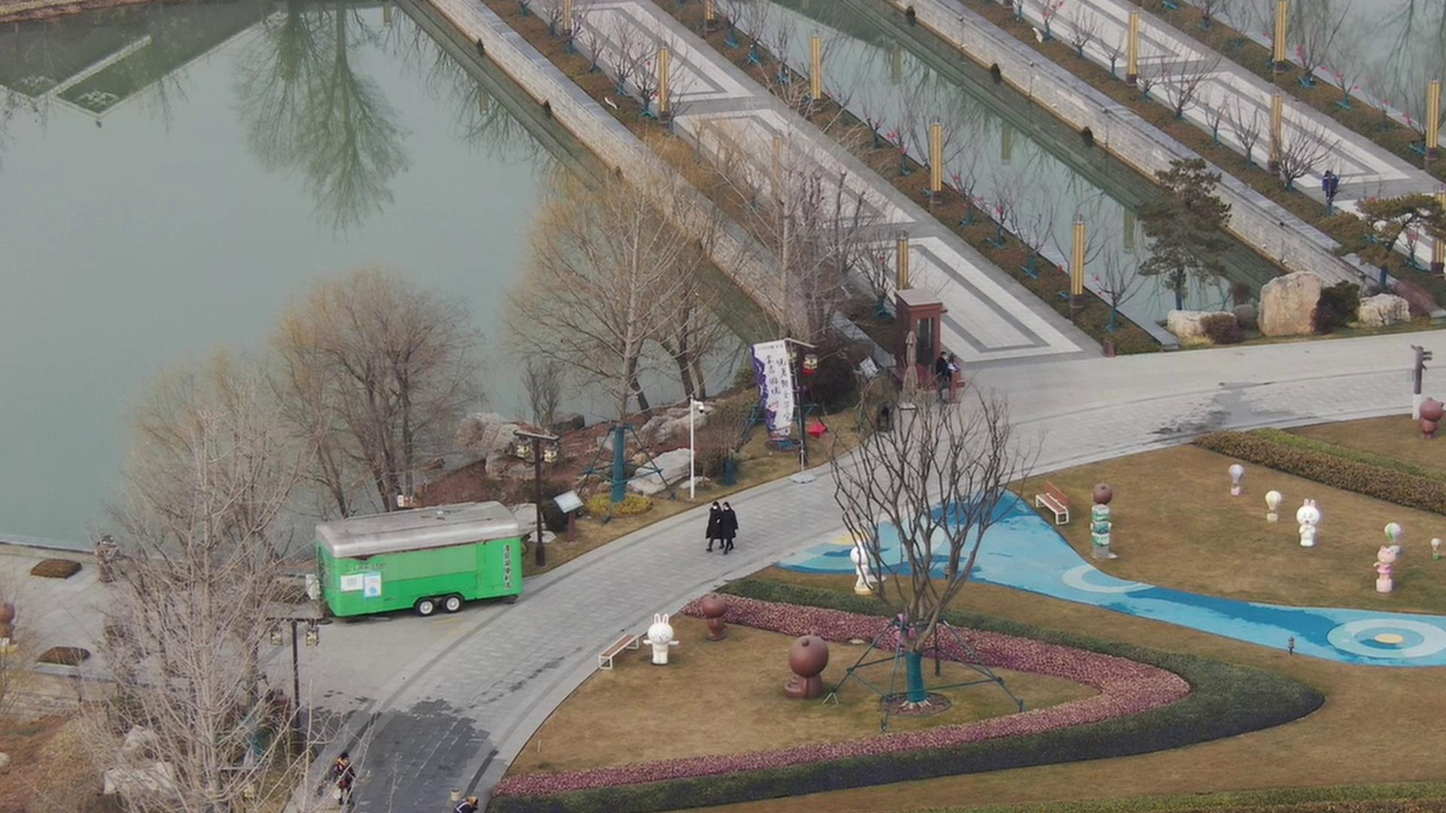class_2: (710, 494, 756, 557)
human: (317, 751, 343, 802)
